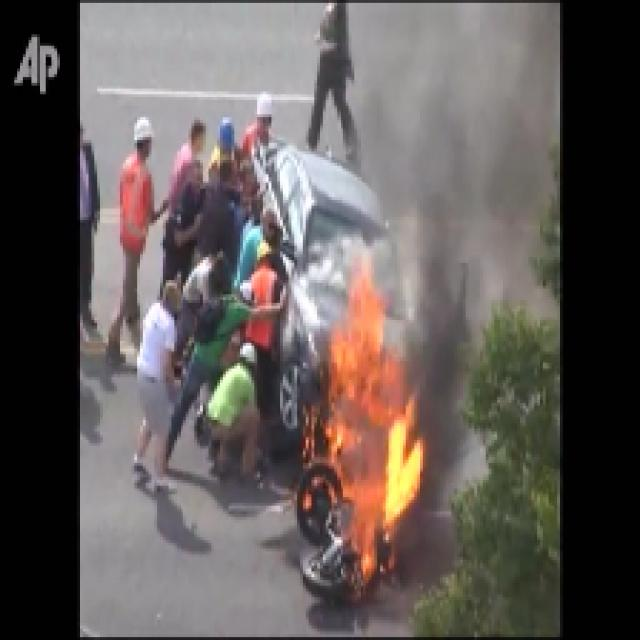fire: (319, 297, 414, 551)
smoke: (398, 20, 532, 289)
